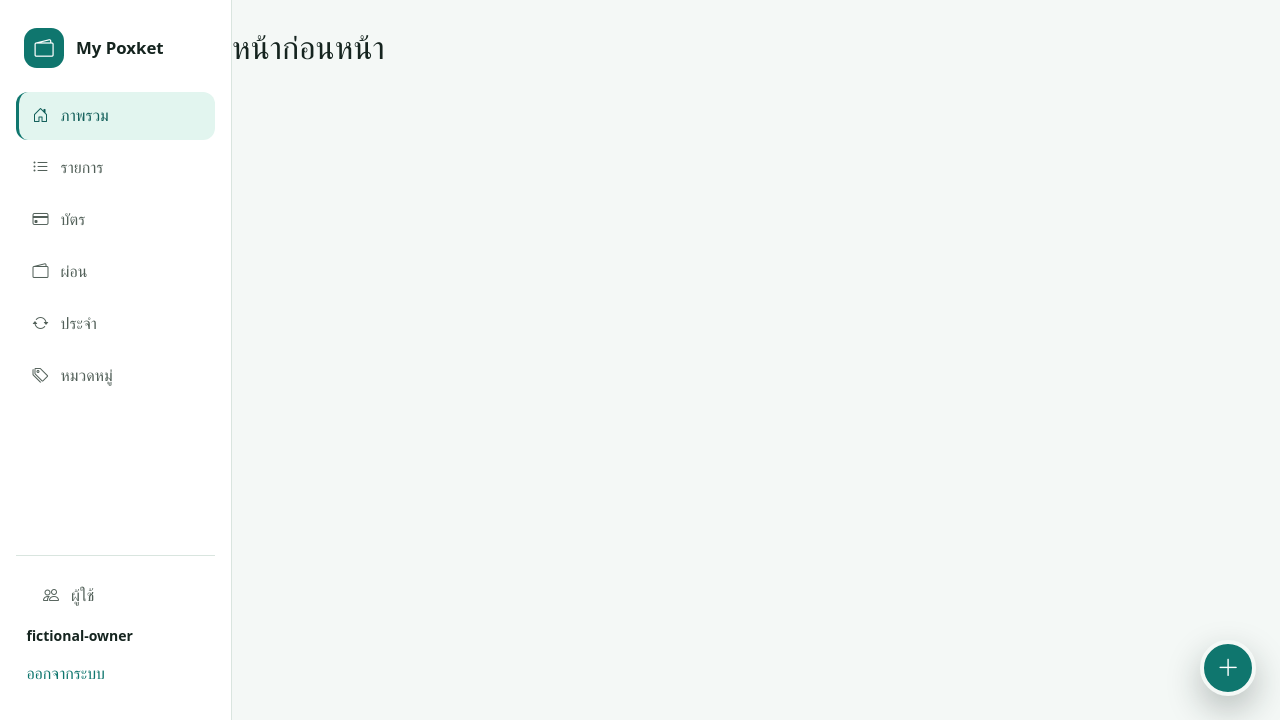
Test: finance pages › /: cancel via เพิ่มรายการด่วน
Click the link named "เพิ่มรายการด่วน": click(1228, 668) [1200,640,1256,696]
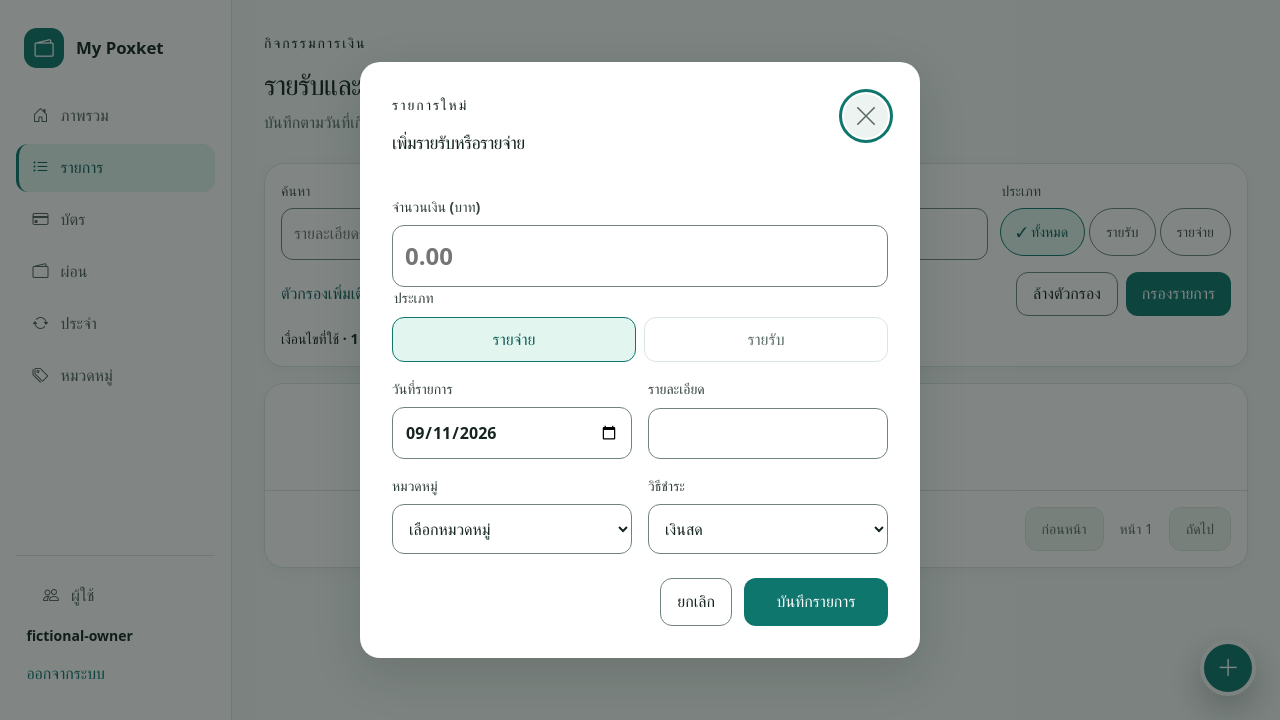
Click the button "ยกเลิก": click(696, 602) [660,578,732,626]
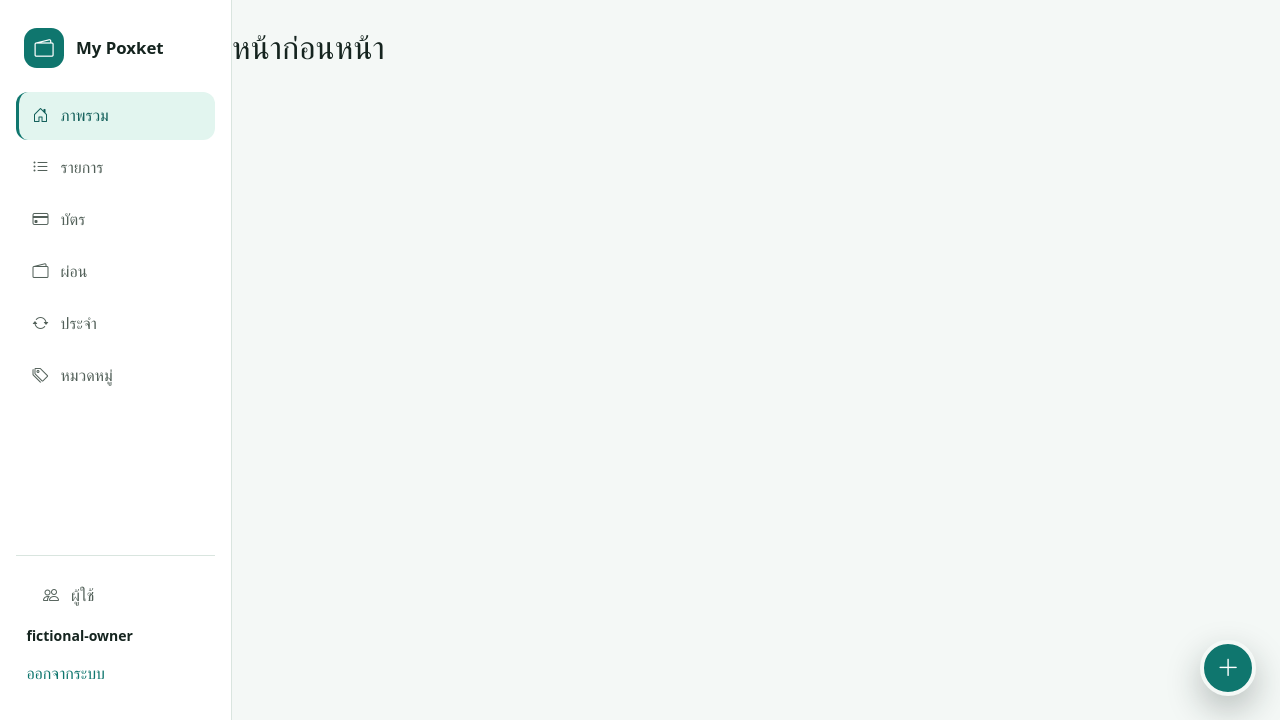
Expected: the dialog is gone
